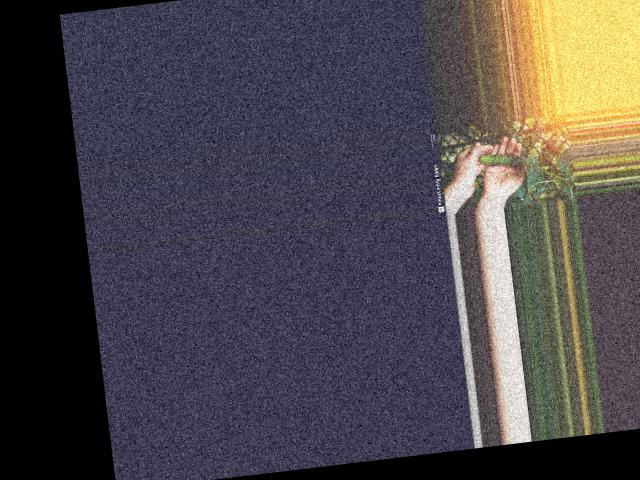cucumber: (479, 149, 523, 170)
